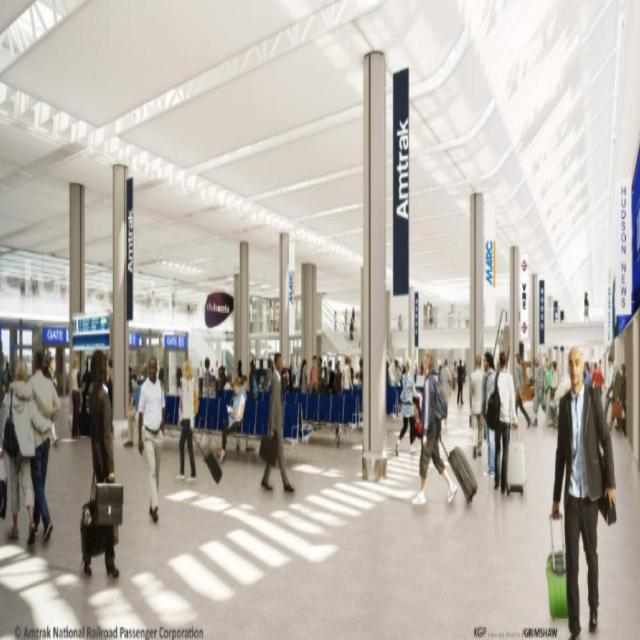body: (550, 342, 618, 639), (7, 272, 200, 326), (8, 349, 60, 544), (0, 356, 52, 547), (385, 301, 471, 416), (79, 349, 121, 578), (411, 352, 459, 506), (257, 350, 295, 494), (137, 355, 167, 524), (81, 360, 146, 432), (491, 350, 519, 497), (173, 360, 198, 483), (216, 374, 248, 462), (395, 359, 421, 456), (468, 352, 486, 459), (481, 352, 496, 479), (122, 374, 142, 449), (514, 352, 532, 430), (605, 360, 624, 431), (198, 355, 214, 434), (531, 350, 547, 428), (70, 354, 84, 441), (210, 360, 248, 388), (603, 353, 617, 422), (298, 357, 310, 422), (582, 366, 592, 438), (544, 357, 554, 428), (316, 355, 326, 422), (439, 357, 452, 408), (324, 358, 336, 412), (340, 354, 355, 394), (248, 358, 260, 402), (591, 361, 604, 394), (619, 362, 626, 417), (456, 358, 464, 406), (354, 354, 364, 391), (47, 356, 58, 389), (332, 359, 342, 395), (197, 359, 205, 402), (281, 360, 293, 388), (2, 360, 12, 393), (582, 288, 590, 329), (310, 354, 318, 393), (157, 362, 165, 401), (265, 356, 273, 393), (348, 355, 356, 392), (175, 361, 182, 401), (450, 360, 458, 393), (550, 360, 559, 389), (584, 361, 592, 388), (273, 303, 280, 333), (348, 315, 354, 345), (268, 303, 274, 333), (498, 330, 504, 358), (42, 356, 50, 376), (333, 309, 338, 332), (350, 306, 355, 327), (344, 308, 349, 325), (598, 358, 602, 372)
